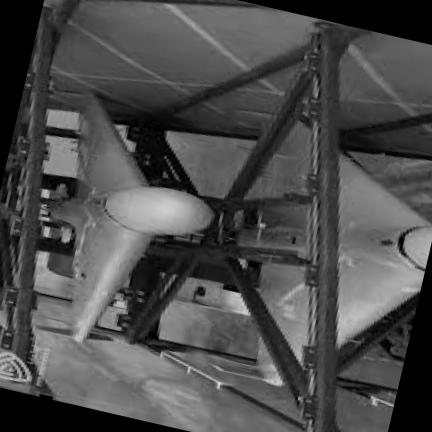Shahed: (47, 95, 215, 340)
